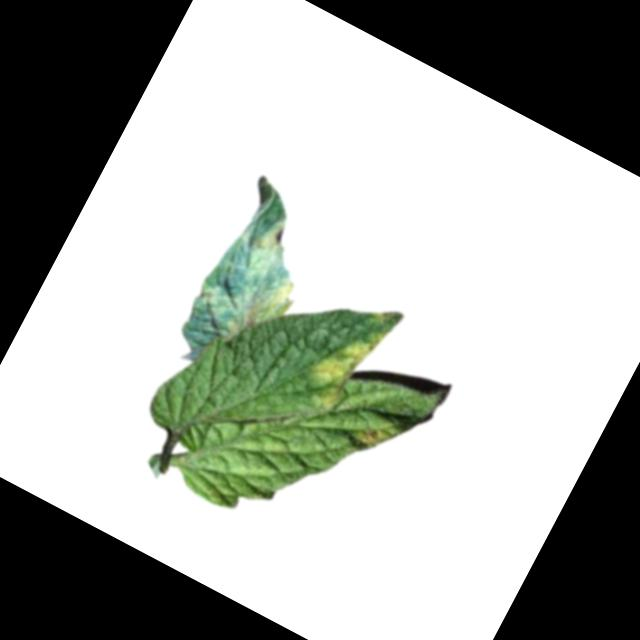Leaf_Mold: (298, 288, 394, 417), (216, 261, 301, 359), (244, 210, 295, 269), (344, 415, 390, 459)
